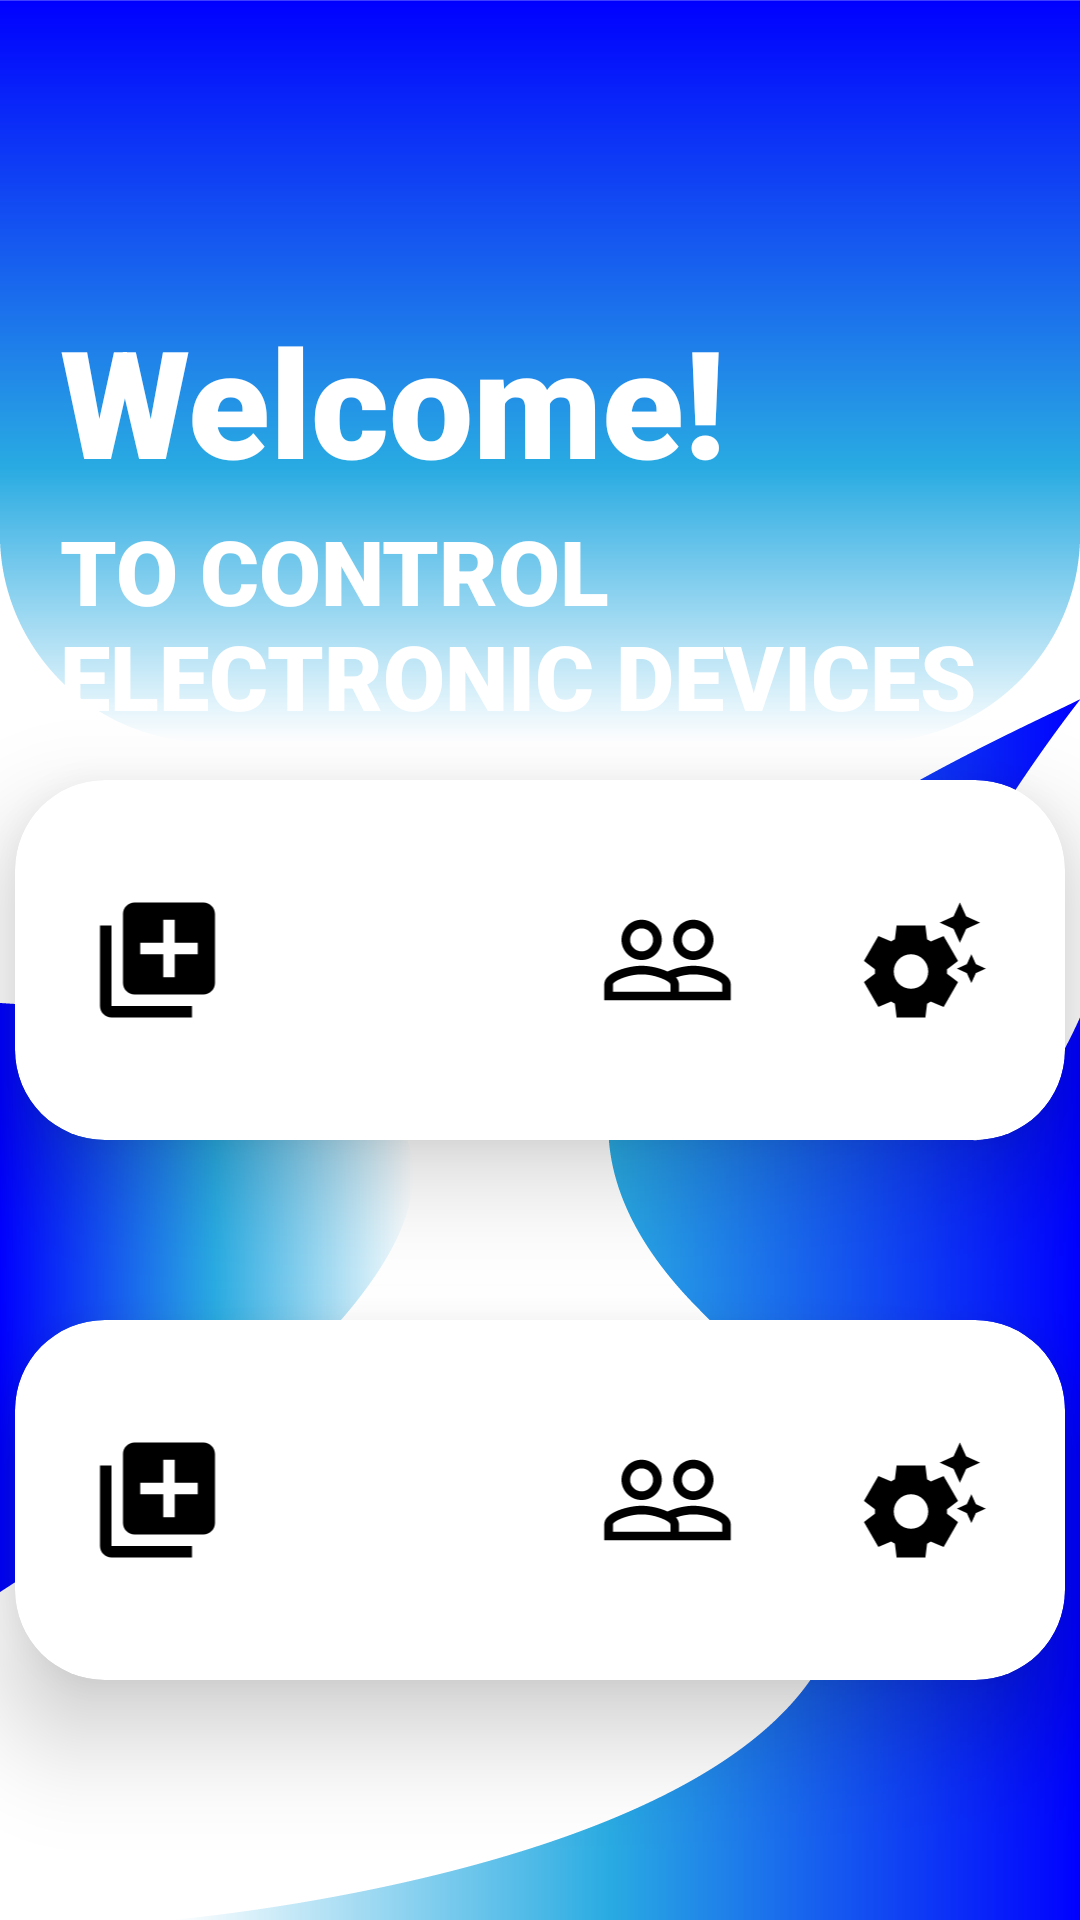

Screen size 1080*1920. Icon name, then its center in pixels as point (x, y):
add to photos: point (157, 960), point (157, 1500)
people: point (667, 960), point (667, 1500)
settings suggest: point (924, 960), point (924, 1500)
